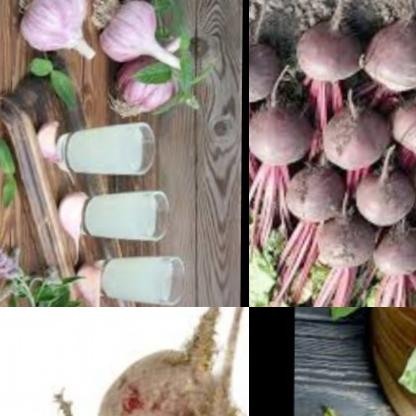beet: (92, 335, 221, 416), (249, 85, 318, 172), (290, 14, 366, 88), (317, 101, 389, 179), (361, 6, 416, 95), (353, 162, 415, 240), (312, 204, 375, 275), (278, 166, 343, 227), (362, 219, 416, 288), (387, 86, 416, 163), (249, 31, 279, 105)
garlic: (98, 0, 193, 81), (109, 40, 188, 124), (10, 0, 97, 67), (53, 191, 99, 252), (68, 257, 115, 307), (31, 108, 69, 164)
